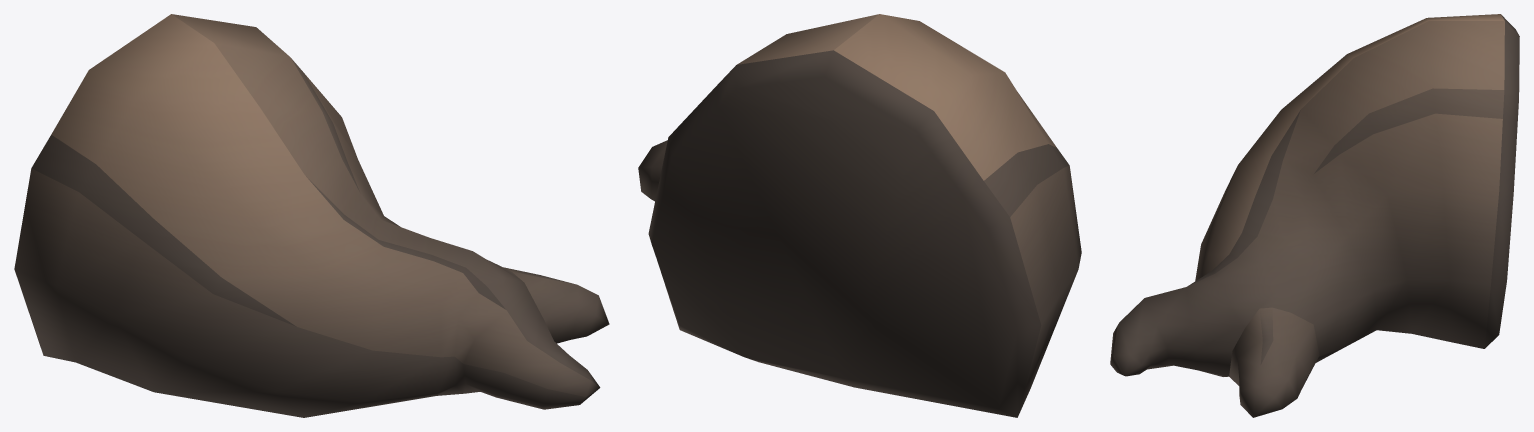
Rendered from elf_tree_root_1.fbx.
3 renders of one model, left to right at view 1: azimuth 30°, elevation 25°; view 2: azimuth 150°, elevation 25°; view 3: azimuth 270°, elevation 25°, orthographic. The views are drawn at different scales.
Parts seen in each view (by area): view 1: elf_tree_root_1; view 2: elf_tree_root_1; view 3: elf_tree_root_1.
Part boxes in pixels (x1,y1,x2,y2): elf_tree_root_1: [14, 14, 609, 417]; elf_tree_root_1: [638, 14, 1081, 417]; elf_tree_root_1: [1110, 14, 1519, 417].
Bounding box in the file's own units: 2.87 × 1.79 × 2.36.
